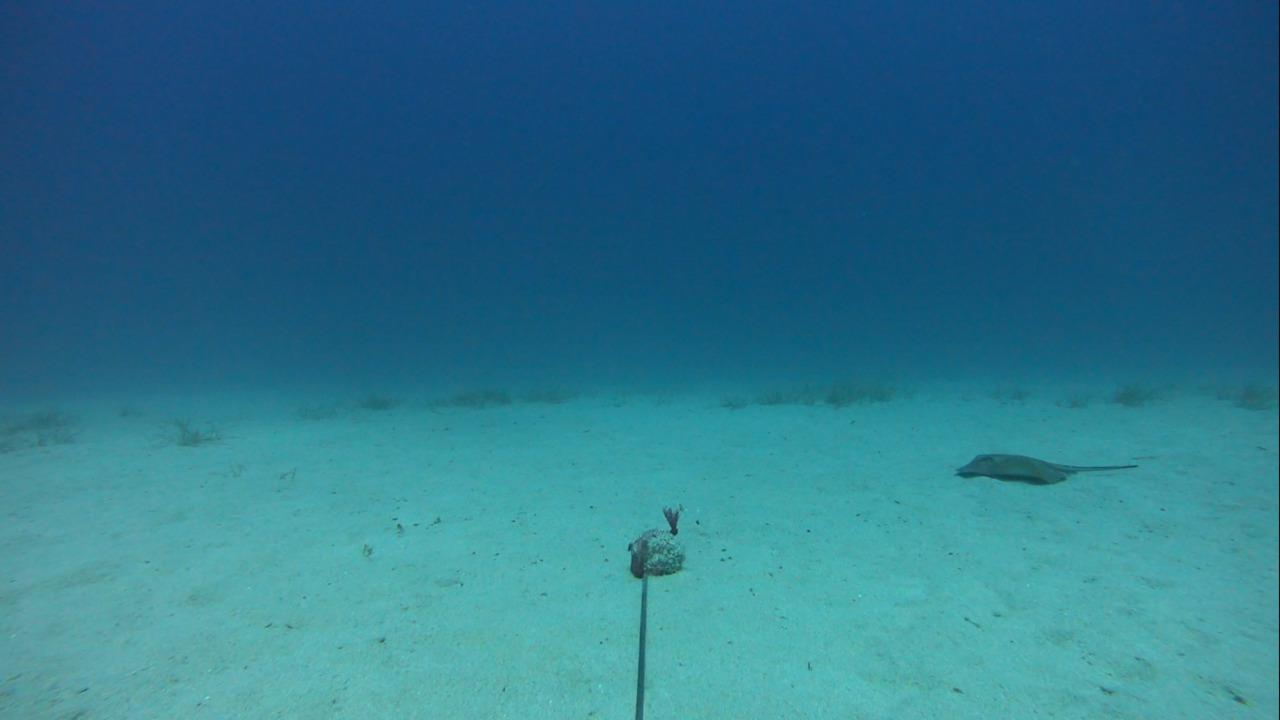myliobatis: (950, 445, 1142, 494)
